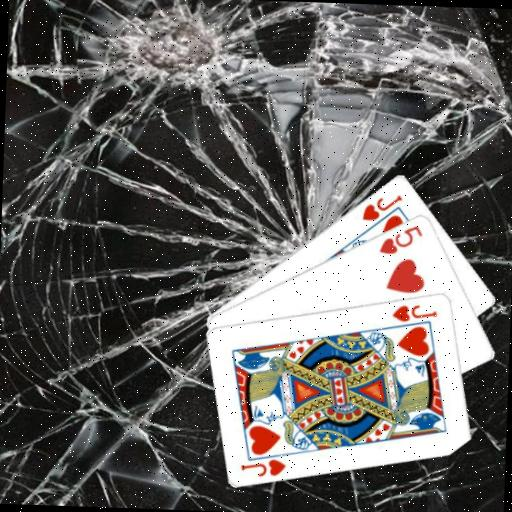5H: (376, 220, 425, 257)
JH: (359, 189, 404, 223), (237, 454, 288, 479), (389, 300, 439, 324)
